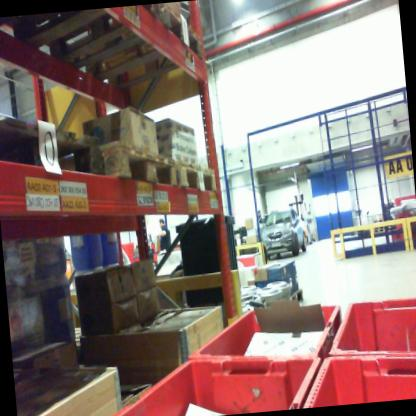pallet: (52, 4, 219, 86), (0, 5, 174, 71), (0, 101, 109, 181), (98, 133, 182, 192), (174, 154, 224, 198), (280, 282, 308, 316), (372, 218, 388, 225), (372, 227, 386, 234), (372, 224, 386, 229)
small_load_carrier: (93, 341, 325, 416), (178, 287, 353, 370), (325, 277, 416, 360), (303, 349, 416, 406)
